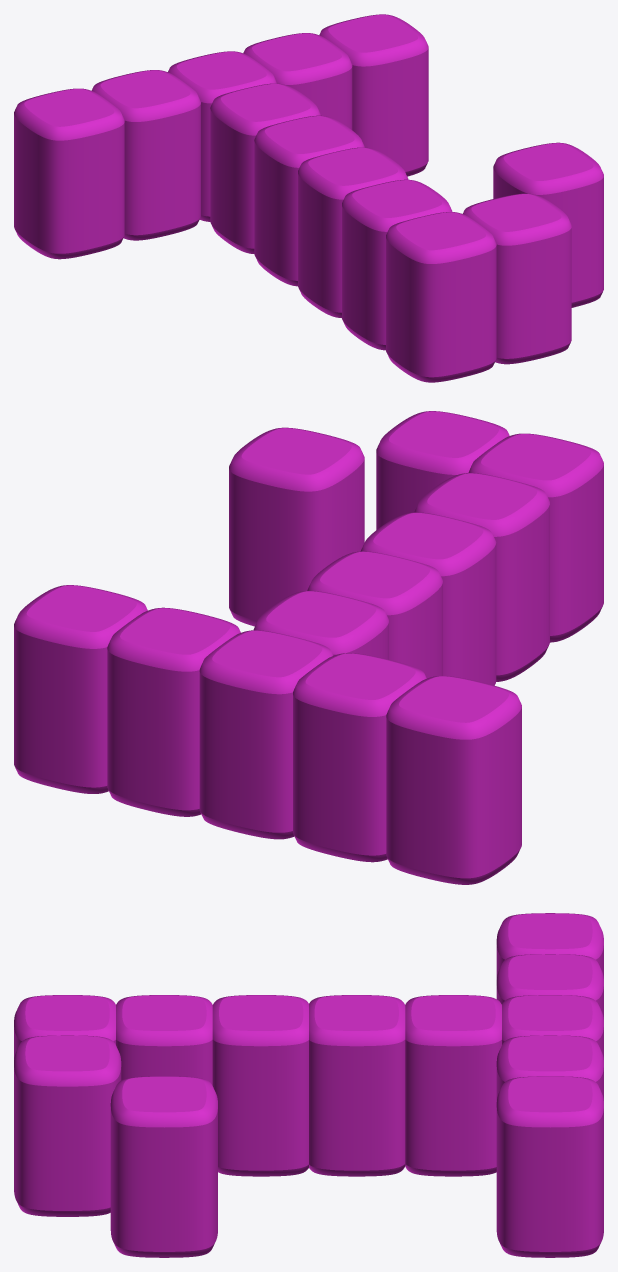
The model's file is Number_1.fbx.
3 renders of one model, top to bottom at view 1: azimuth 30°, elevation 25°; view 2: azimuth 150°, elevation 25°; view 3: azimuth 270°, elevation 25°, orthographic. The views are drawn at different scales.
Visible parts, largest first — view 1: Number_1; view 2: Number_1; view 3: Number_1.
Part boxes in pixels (x1,y1,x2,y2): Number_1: [14, 14, 603, 382]; Number_1: [14, 411, 603, 884]; Number_1: [14, 913, 603, 1257].
Size of the model in its own units: 0.4311 by 0.14 by 0.5157.
